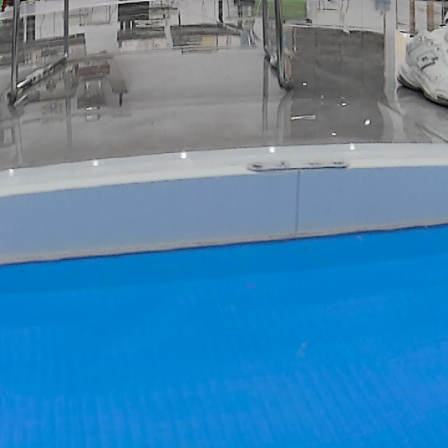blue_base: (1, 225, 448, 448)
